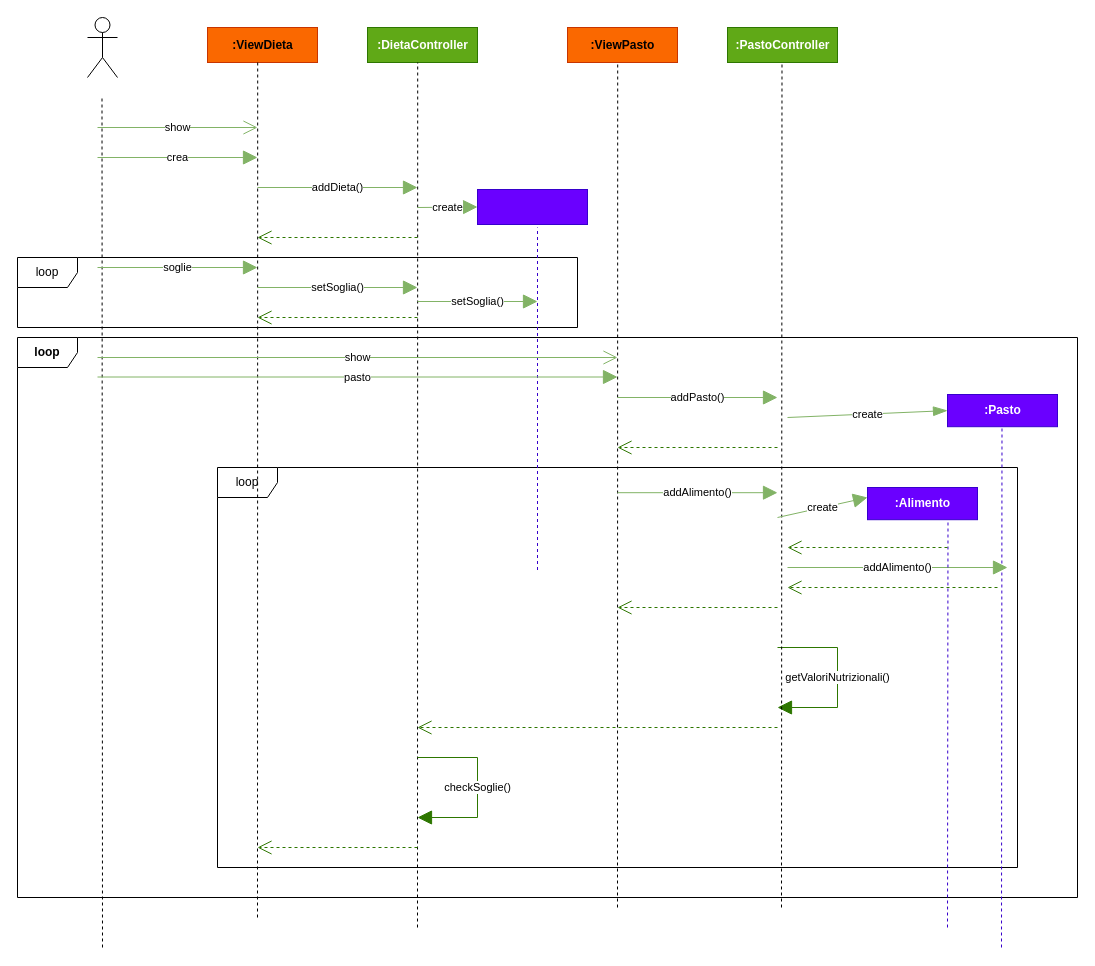
Some shapes in this 1095 by 966 pixel diagram are drawn without their labels. The box of each missing label's shape, as (x1, y1, x2, y2) in pixels:
:Dieta: (476, 188, 588, 224)
Nutrizionista: (86, 16, 118, 78)
